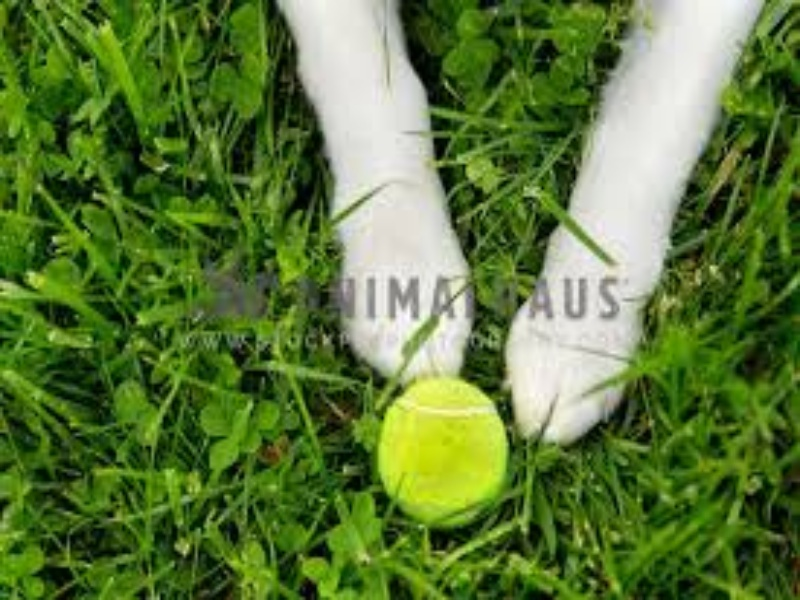tennis ball: (353, 374, 546, 532)
